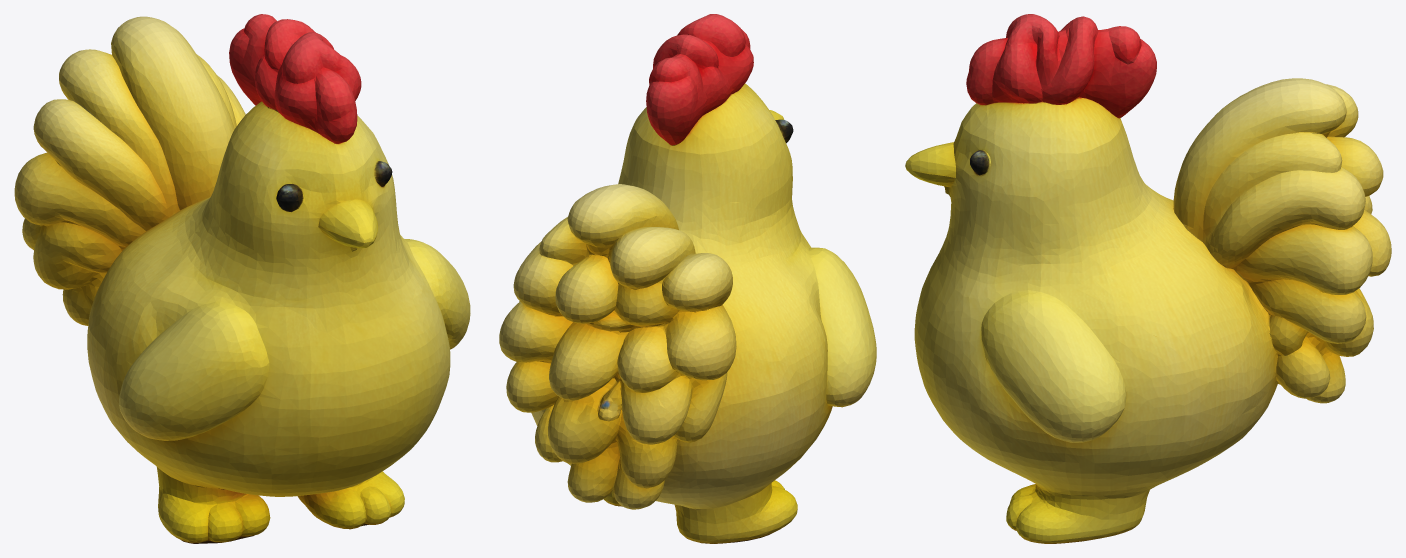
Rendered from chicken.glb.
3 views of the same model, side by side, from view 1: azimuth 30°, elevation 25°; view 2: azimuth 150°, elevation 25°; view 3: azimuth 270°, elevation 25° (orthographic). The views are drawn at different scales.
Visible parts, largest first — view 1: geometry_0; view 2: geometry_0; view 3: geometry_0.
Boxes of the visible parts, bbox=[...] form: geometry_0: bbox=[14, 14, 470, 543]; geometry_0: bbox=[499, 14, 876, 543]; geometry_0: bbox=[905, 14, 1391, 543].
Size of the model in its own units: 0.0638 by 0.087 by 0.0787.
1 material, 1 textured.
